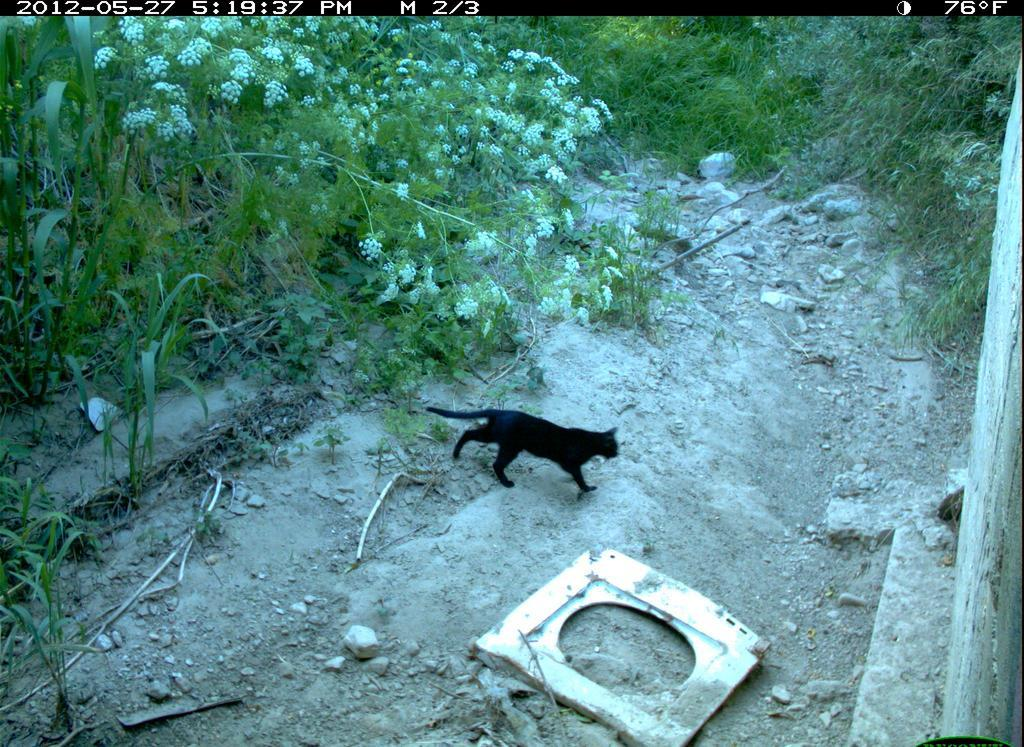cat: (417, 396, 629, 511)
